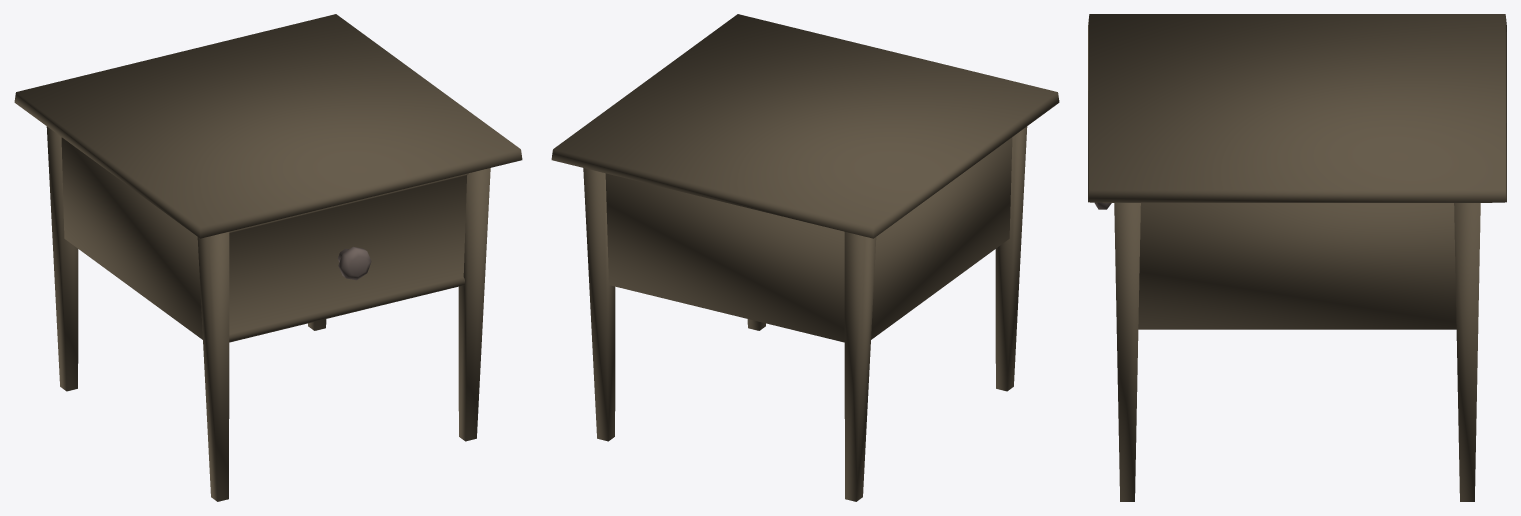
The model's file is NightStand_1.glb.
3 views of the same model, side by side, from view 1: azimuth 30°, elevation 25°; view 2: azimuth 150°, elevation 25°; view 3: azimuth 270°, elevation 25° (orthographic). The views are drawn at different scales.
Parts seen in each view (by area): view 1: NightStand_1; view 2: NightStand_1; view 3: NightStand_1.
Boxes of the visible parts, <box> form: NightStand_1: <box>14,14,522,501</box>; NightStand_1: <box>551,14,1059,501</box>; NightStand_1: <box>1088,14,1506,501</box>.
Bounding box in the file's own units: 0.9522 × 0.8249 × 0.9522.
